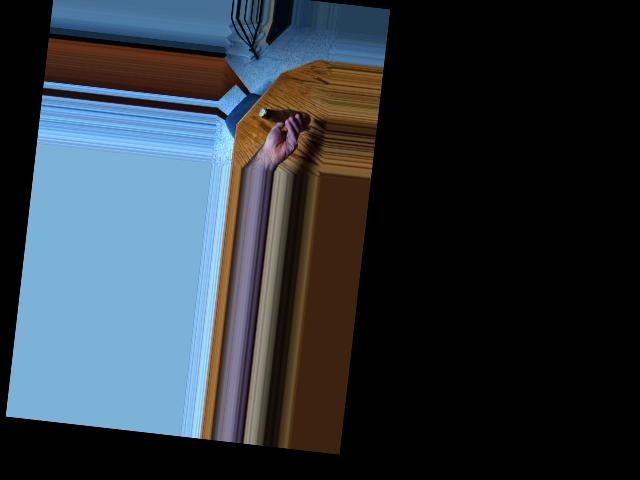sweet_potato: (261, 102, 308, 129)
